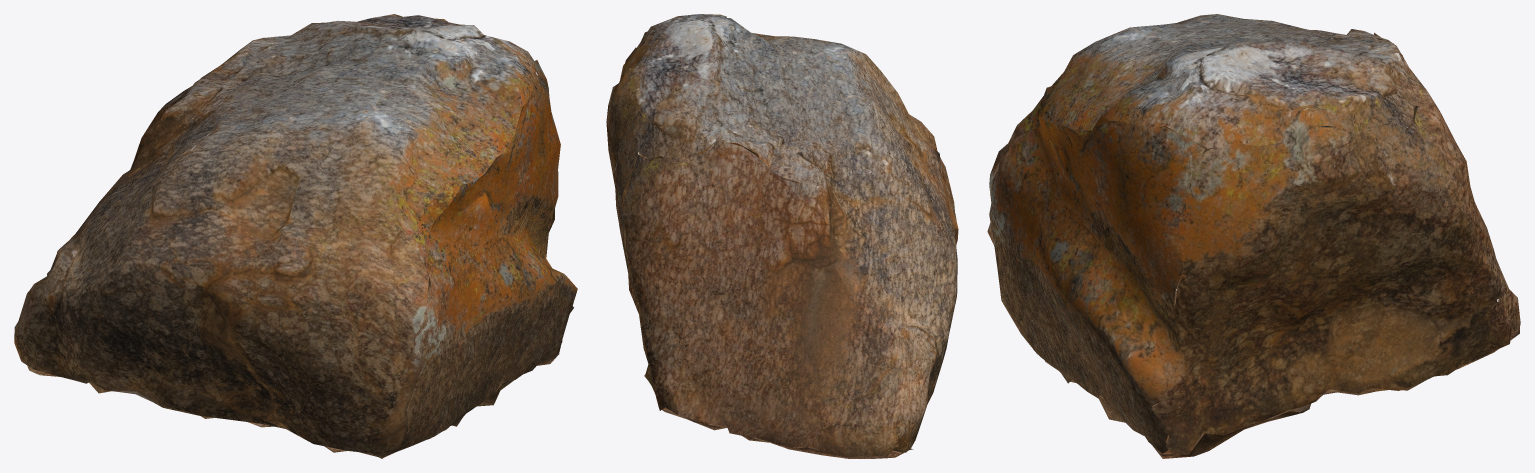
File: namaqualand_boulder_04.glb
The picture shows the model from 3 angles, left to right: view 1: azimuth 30°, elevation 25°; view 2: azimuth 150°, elevation 25°; view 3: azimuth 270°, elevation 25°; orthographic projection. The views are drawn at different scales.
Visible parts, largest first — view 1: boulder_04; view 2: boulder_04; view 3: boulder_04.
Boxes of the visible parts, box(x1,y1,x2,y2) form: boulder_04: box(14, 14, 577, 458); boulder_04: box(606, 14, 958, 458); boulder_04: box(987, 14, 1520, 458).
Bounding box in the file's own units: 2.52 × 1.88 × 2.49.
1 material, 1 textured.
